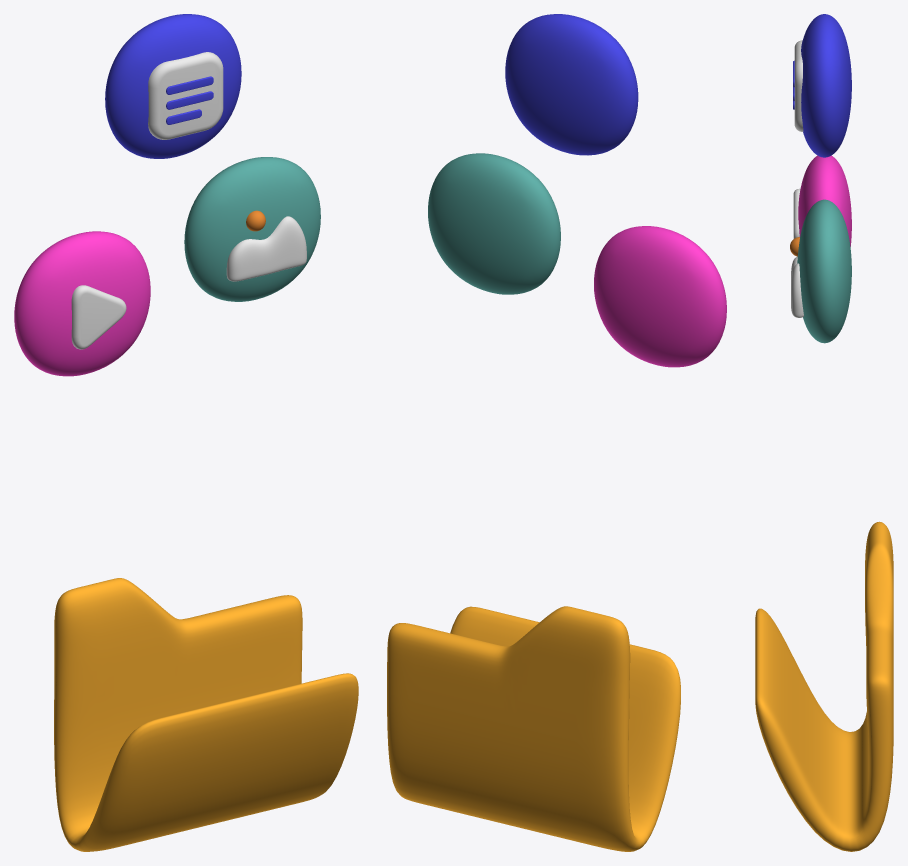
The model's file is submitting-animated-3d-icon-718635065306.glb.
3 renders of one model, left to right at view 1: azimuth 30°, elevation 25°; view 2: azimuth 150°, elevation 25°; view 3: azimuth 270°, elevation 25°, orthographic. The views are drawn at different scales.
Parts seen in each view (by area): view 1: Folder, Multimedia, Image, Document; view 2: Folder, Document, Image, Multimedia; view 3: Folder, Image, Document, Multimedia.
Boxes of the visible parts, x1,y1,x2,y2 form: Folder: (54, 578, 358, 851); Multimedia: (14, 231, 150, 376); Image: (184, 157, 320, 301); Document: (105, 14, 241, 158); Folder: (387, 606, 680, 851); Document: (505, 14, 638, 155); Image: (428, 153, 560, 294); Multimedia: (594, 226, 726, 367); Folder: (755, 521, 893, 851); Image: (790, 199, 851, 343); Document: (793, 14, 851, 157); Multimedia: (793, 155, 851, 246).
Size of the model in its own units: 2.54 by 6.38 by 1.05.
